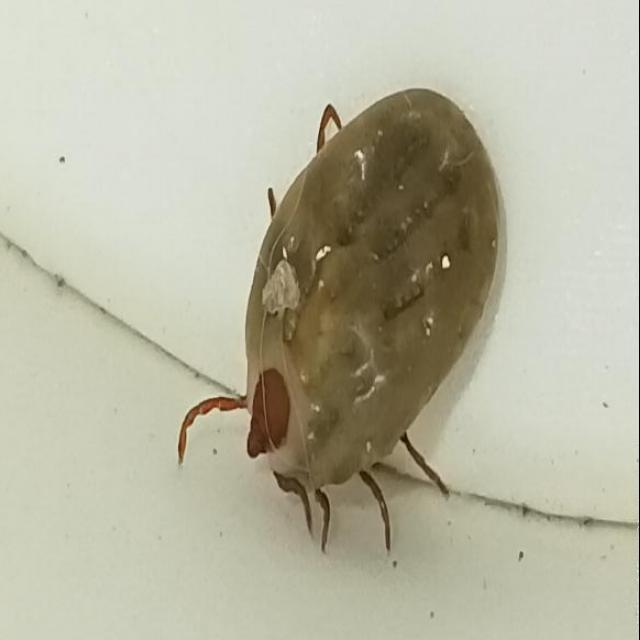Rhipicephalus Sanguineus-F-Fed: (178, 87, 510, 552)
